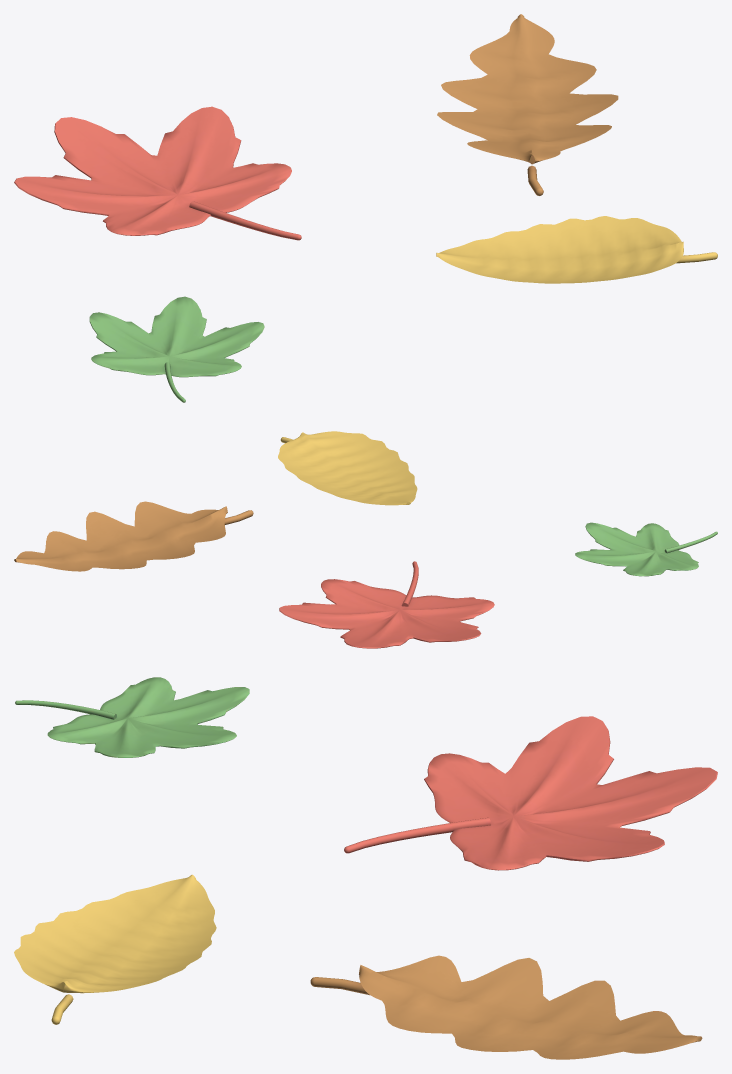
Rendered from leaf.fbx.
The picture shows the model from 3 angles, top to bottom: view 1: azimuth 30°, elevation 25°; view 2: azimuth 150°, elevation 25°; view 3: azimuth 270°, elevation 25°; orthographic projection. The views are drawn at different scales.
Visible parts, largest first — view 1: leaf_body; view 2: leaf_body; view 3: leaf_body.
Boxes of the visible parts, x1,y1,x2,y2 form: leaf_body: (14, 14, 717, 402); leaf_body: (14, 431, 717, 648); leaf_body: (14, 677, 717, 1059).
Bounding box in the file's own units: 0.2753 × 0.0123 × 0.2099.
Materials: 1 (1 with a texture image).
